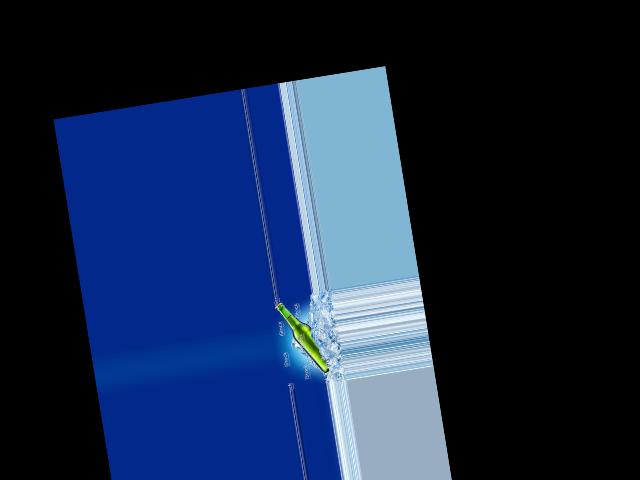beer: (274, 295, 329, 379)
